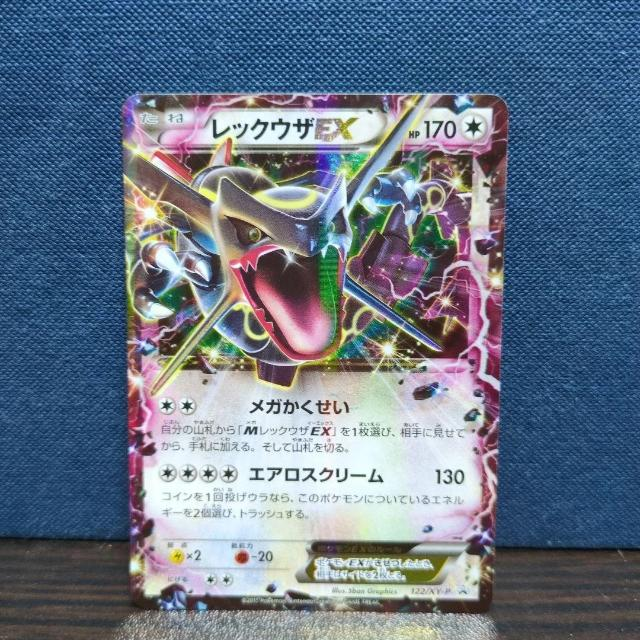Card: (114, 89, 513, 621)
Name: (206, 112, 365, 148)
